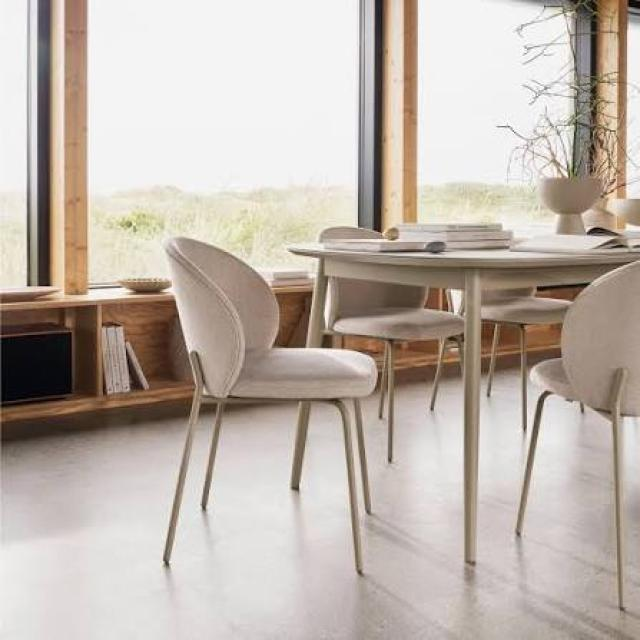Chair: (153, 225, 392, 583)
